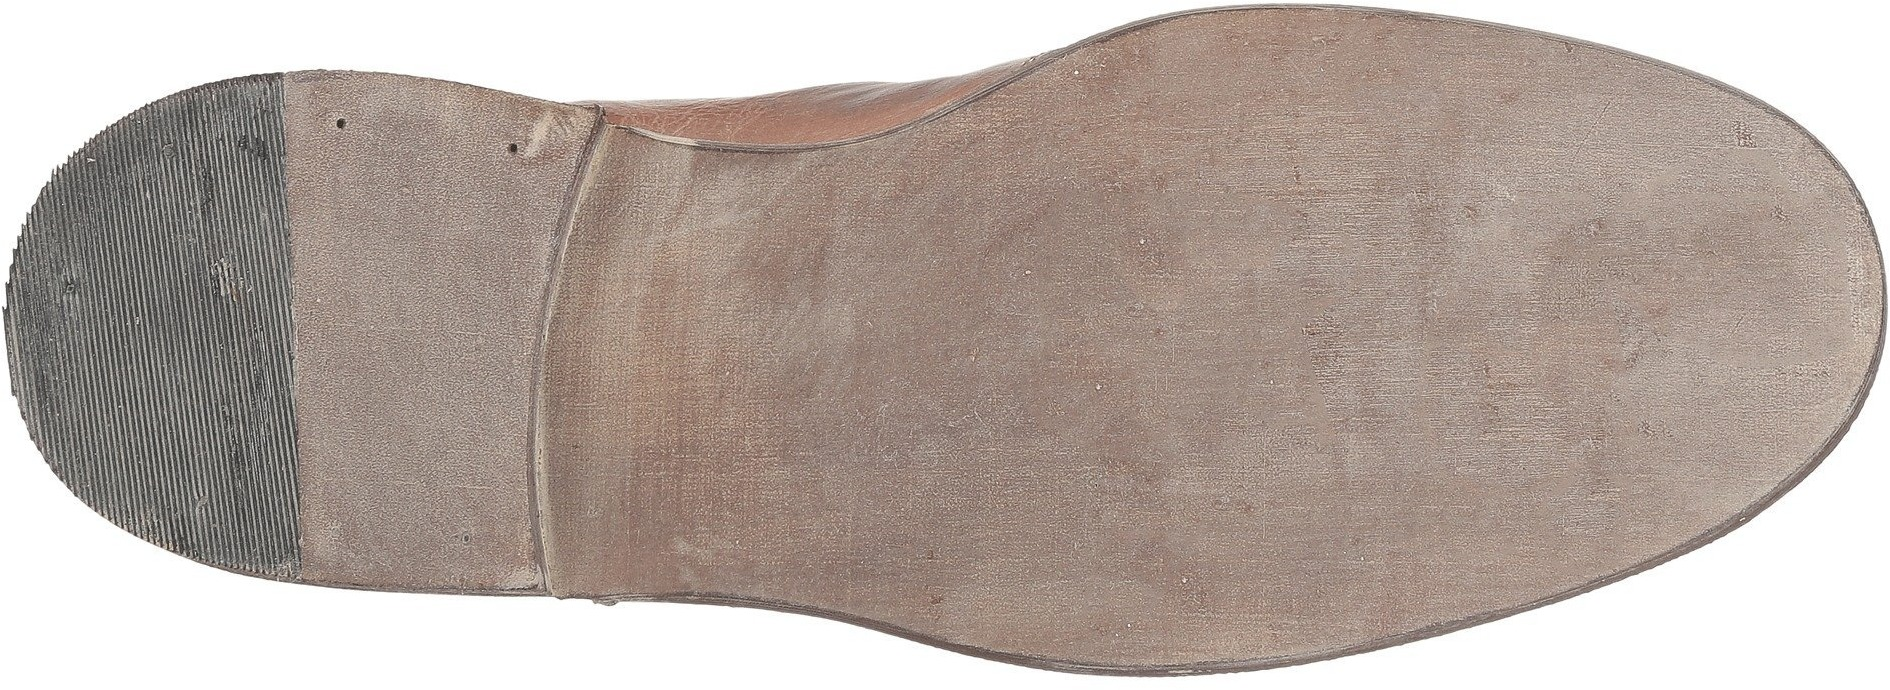exclude: (528, 8, 965, 671)
other: (1108, 43, 1465, 343), (1480, 144, 1789, 460), (793, 172, 1107, 464), (1117, 356, 1413, 654), (41, 199, 284, 426), (317, 343, 518, 542), (322, 134, 532, 311)
